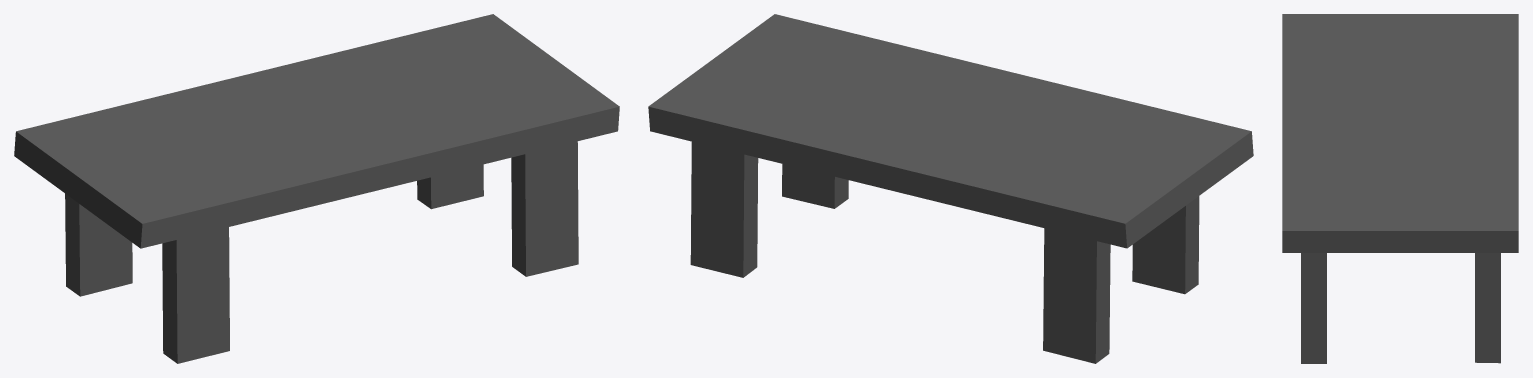
The model's file is Table_4_231109.glb.
The picture shows the model from 3 angles, left to right: view 1: azimuth 30°, elevation 25°; view 2: azimuth 150°, elevation 25°; view 3: azimuth 270°, elevation 25°; orthographic projection. The views are drawn at different scales.
Parts seen in each view (by area): view 1: Table_4; view 2: Table_4; view 3: Table_4.
Boxes of the visible parts, x1,y1,x2,y2 form: Table_4: [14, 14, 619, 363]; Table_4: [648, 14, 1253, 363]; Table_4: [1282, 14, 1518, 363].
Size of the model in its own units: 2.18 by 0.6886 by 0.9976.
Materials: 1 (1 with a texture image).
